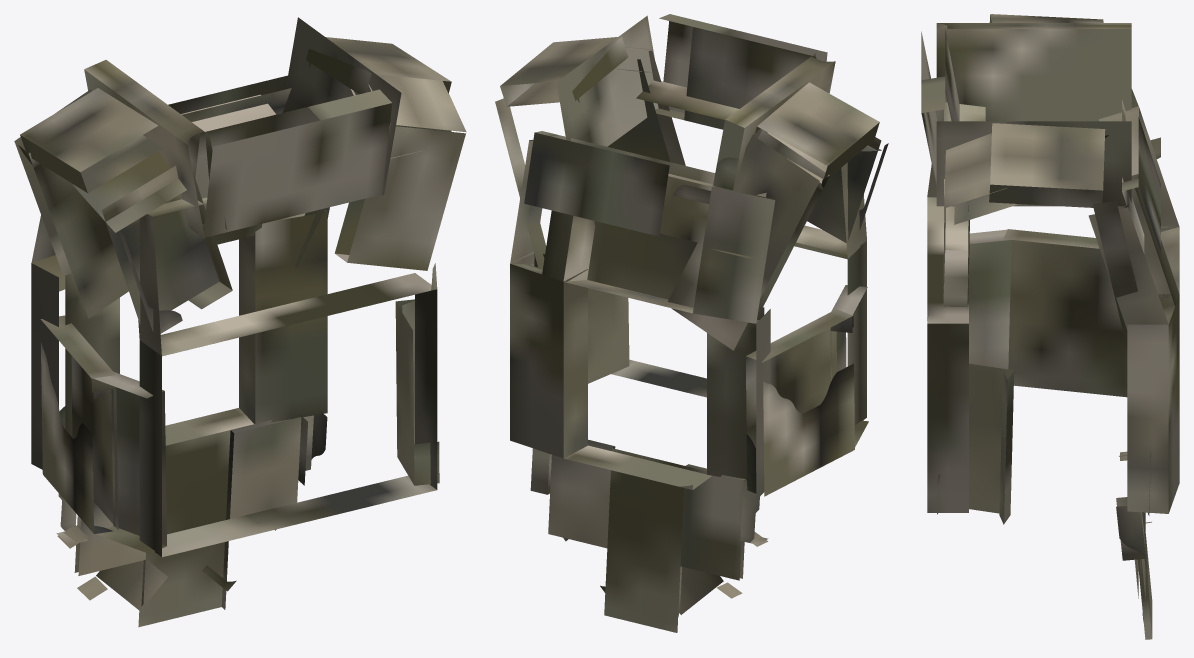
Rendered from ukrainian.obj.
The picture shows the model from 3 angles, left to right: view 1: azimuth 30°, elevation 25°; view 2: azimuth 150°, elevation 25°; view 3: azimuth 270°, elevation 25°; orthographic projection. The views are drawn at different scales.
Visible parts, largest first — view 1: cube; view 2: cube; view 3: cube.
Part boxes in pixels (bbox=[...]): cube: bbox=[14, 17, 466, 627]; cube: bbox=[495, 14, 888, 632]; cube: bbox=[921, 14, 1179, 639].
Size of the model in its own units: 0.7271 by 1.13 by 0.4634.
